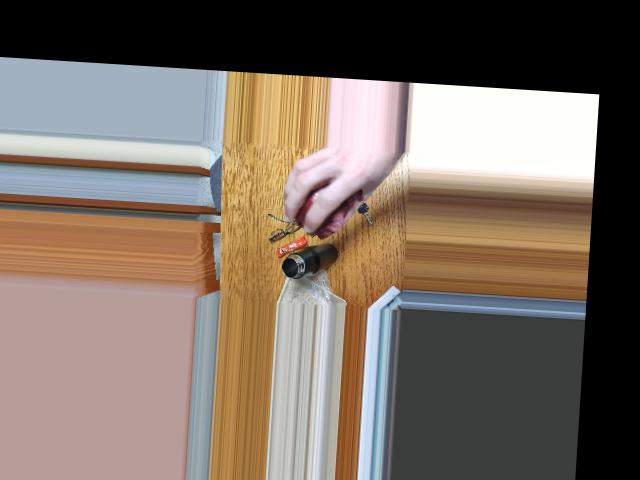onion: (290, 182, 354, 232)
